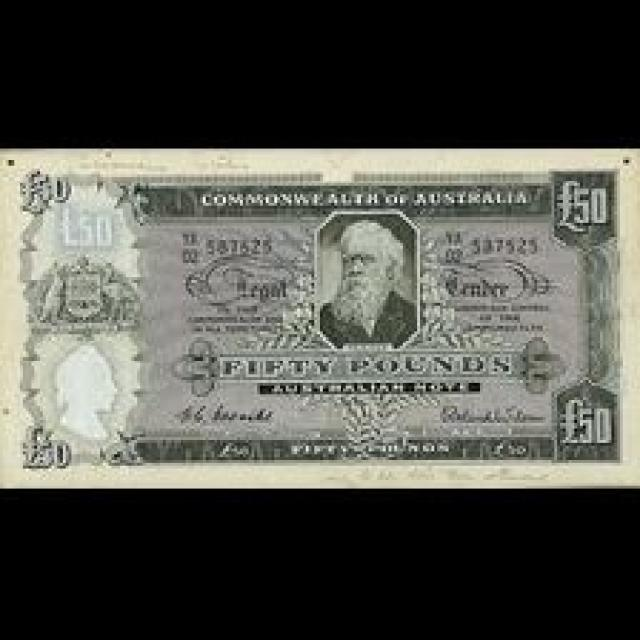banknote: (0, 143, 637, 491)
